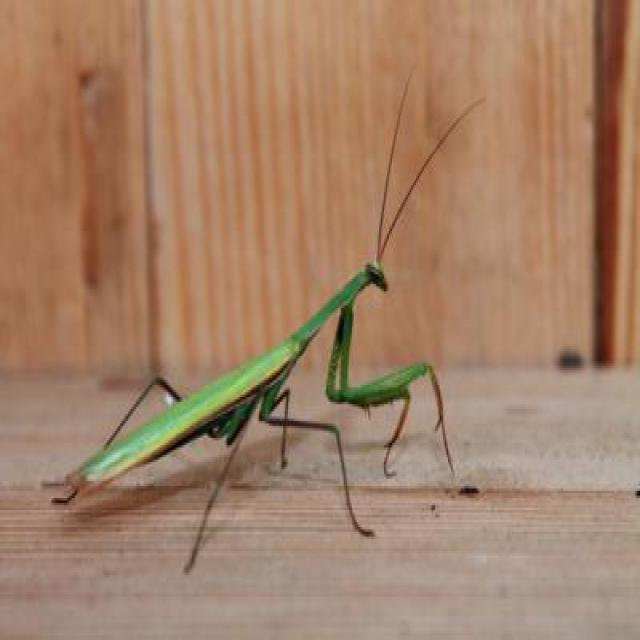antennae: (382, 97, 487, 260), (378, 70, 413, 260)
body: (70, 256, 388, 493)
insect: (39, 73, 488, 579)
legs: (341, 307, 455, 469), (260, 391, 376, 546), (54, 375, 187, 505), (324, 306, 411, 481), (185, 416, 257, 572), (270, 390, 290, 470)
mouthpart: (381, 282, 389, 295)
wings: (73, 339, 296, 489)
